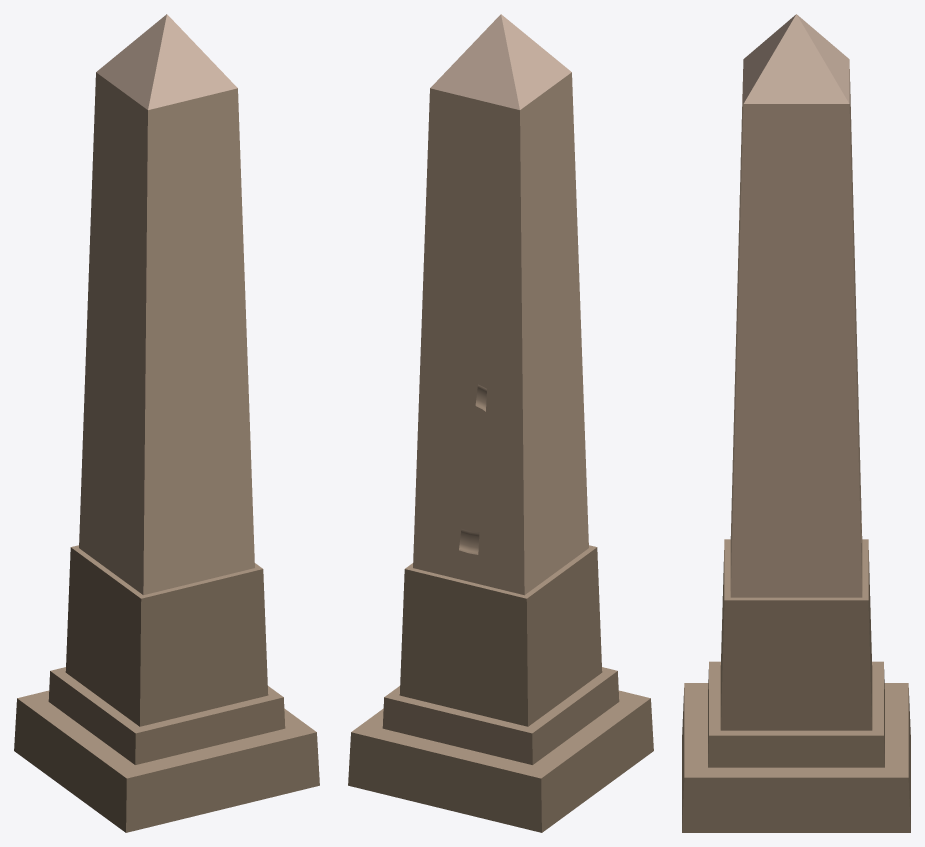
Rendered from desert_obelisk.fbx.
3 renders of one model, left to right at view 1: azimuth 30°, elevation 25°; view 2: azimuth 150°, elevation 25°; view 3: azimuth 270°, elevation 25°, orthographic. The views are drawn at different scales.
Parts seen in each view (by area): view 1: obelisk1; view 2: obelisk1; view 3: obelisk1.
Part boxes in pixels (x1,y1,x2,y2): obelisk1: (14, 14, 319, 832); obelisk1: (348, 14, 653, 832); obelisk1: (682, 14, 910, 832).
Bounding box in the file's own units: 202 × 751 × 202.
